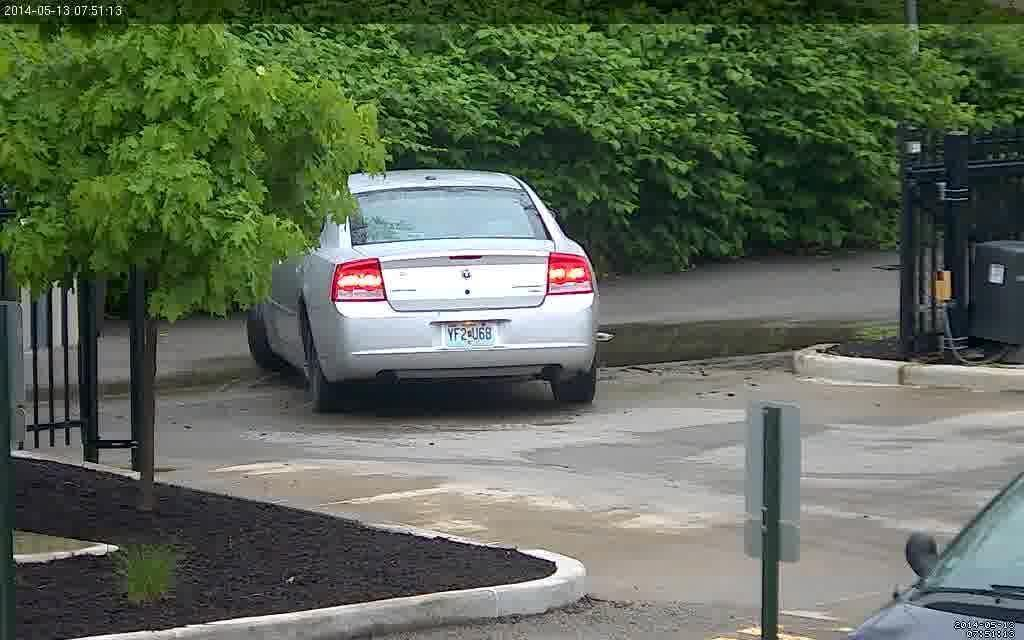placa de veiculo: (433, 321, 501, 358)
